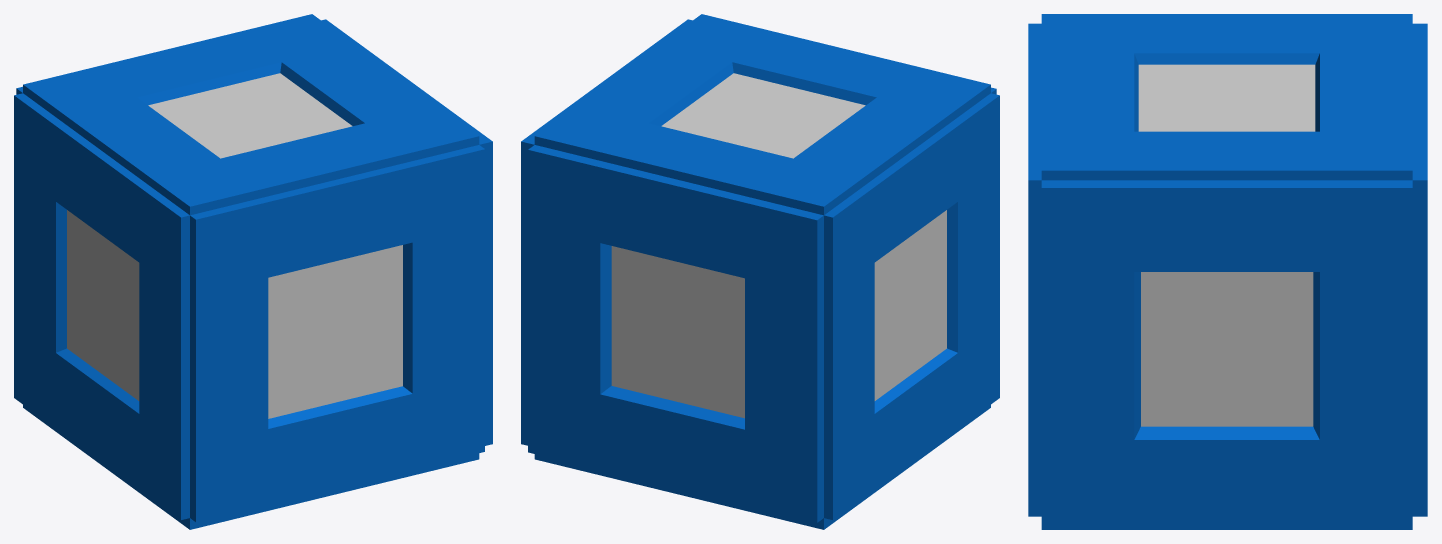
The model's file is Blue Box.fbx.
3 renders of one model, left to right at view 1: azimuth 30°, elevation 25°; view 2: azimuth 150°, elevation 25°; view 3: azimuth 270°, elevation 25°, orthographic. The views are drawn at different scales.
Parts seen in each view (by area): view 1: Cube.002, Cube; view 2: Cube.002, Cube; view 3: Cube.002, Cube.
Part boxes in pixels (bbox=[...]): Cube.002: bbox=[14, 14, 492, 529]; Cube: bbox=[67, 73, 402, 418]; Cube.002: bbox=[521, 14, 999, 529]; Cube: bbox=[611, 73, 946, 418]; Cube.002: bbox=[1028, 14, 1427, 529]; Cube: bbox=[1138, 64, 1315, 426].
Size of the model in its own units: 216 by 214 by 215.
